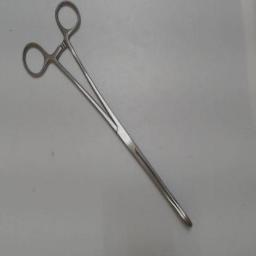Sponge Forceps: (18, 0, 198, 236)
